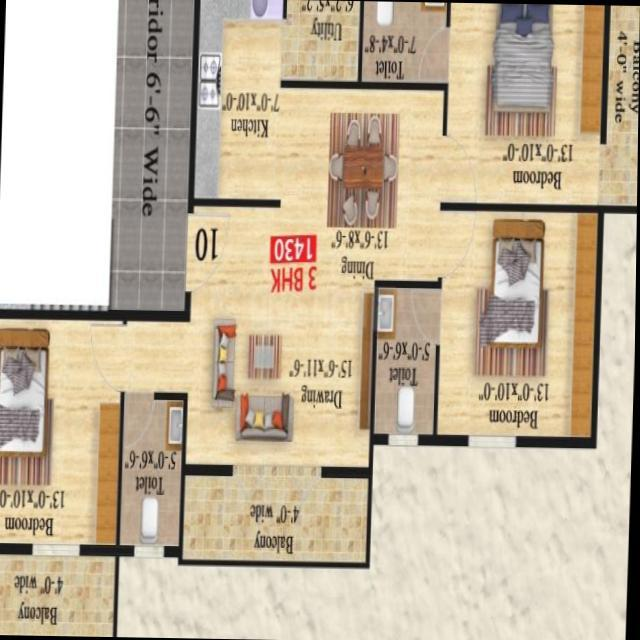Balcony-Sitout: (247, 342, 307, 640), (14, 439, 66, 636), (601, 5, 640, 211)
Bedroom: (0, 315, 124, 552)
Dining: (325, 110, 403, 231)
Kitchen: (191, 0, 286, 204)
Living: (373, 206, 601, 443), (183, 207, 378, 474), (360, 1, 607, 209)
Toilet: (120, 397, 186, 553), (375, 288, 440, 433), (360, 1, 450, 89)
Utility: (279, 0, 362, 85)
